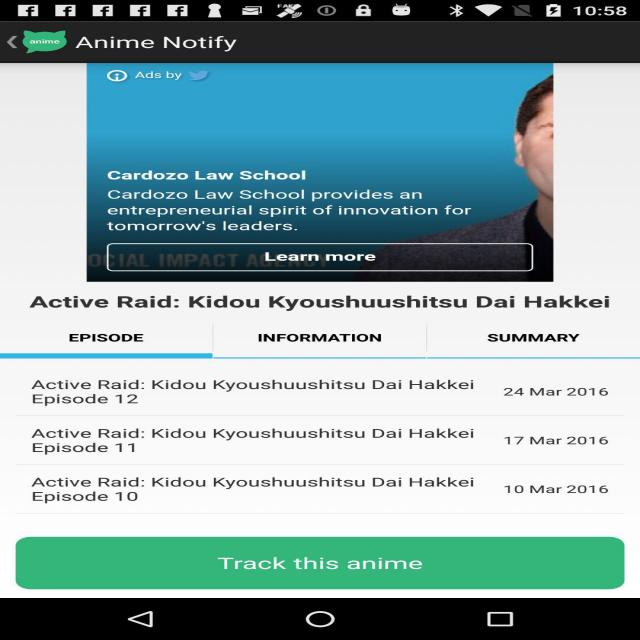button: (25, 544, 613, 586), (103, 242, 538, 273), (0, 325, 216, 356), (456, 329, 629, 359), (242, 330, 403, 357), (3, 22, 73, 61)
image: (82, 64, 557, 282)
text: (6, 373, 623, 510), (91, 165, 485, 237), (22, 284, 640, 320), (74, 28, 248, 58)
